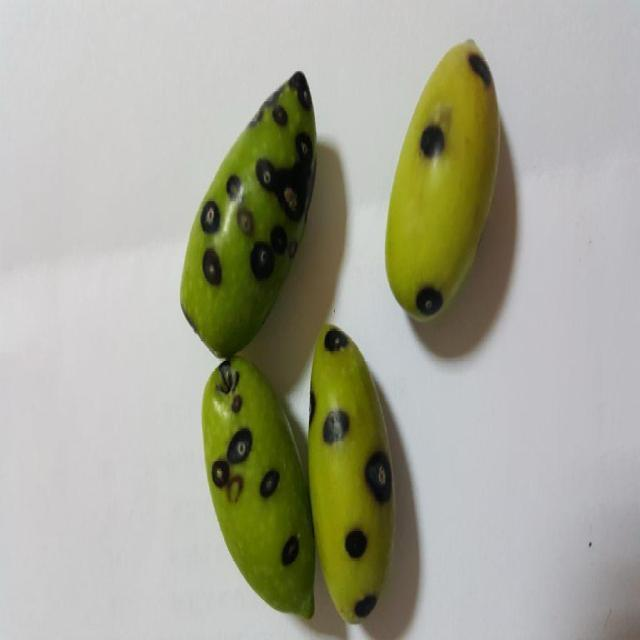Anthracnose: (180, 72, 316, 356), (385, 41, 499, 319), (202, 359, 315, 619), (308, 324, 394, 622)
